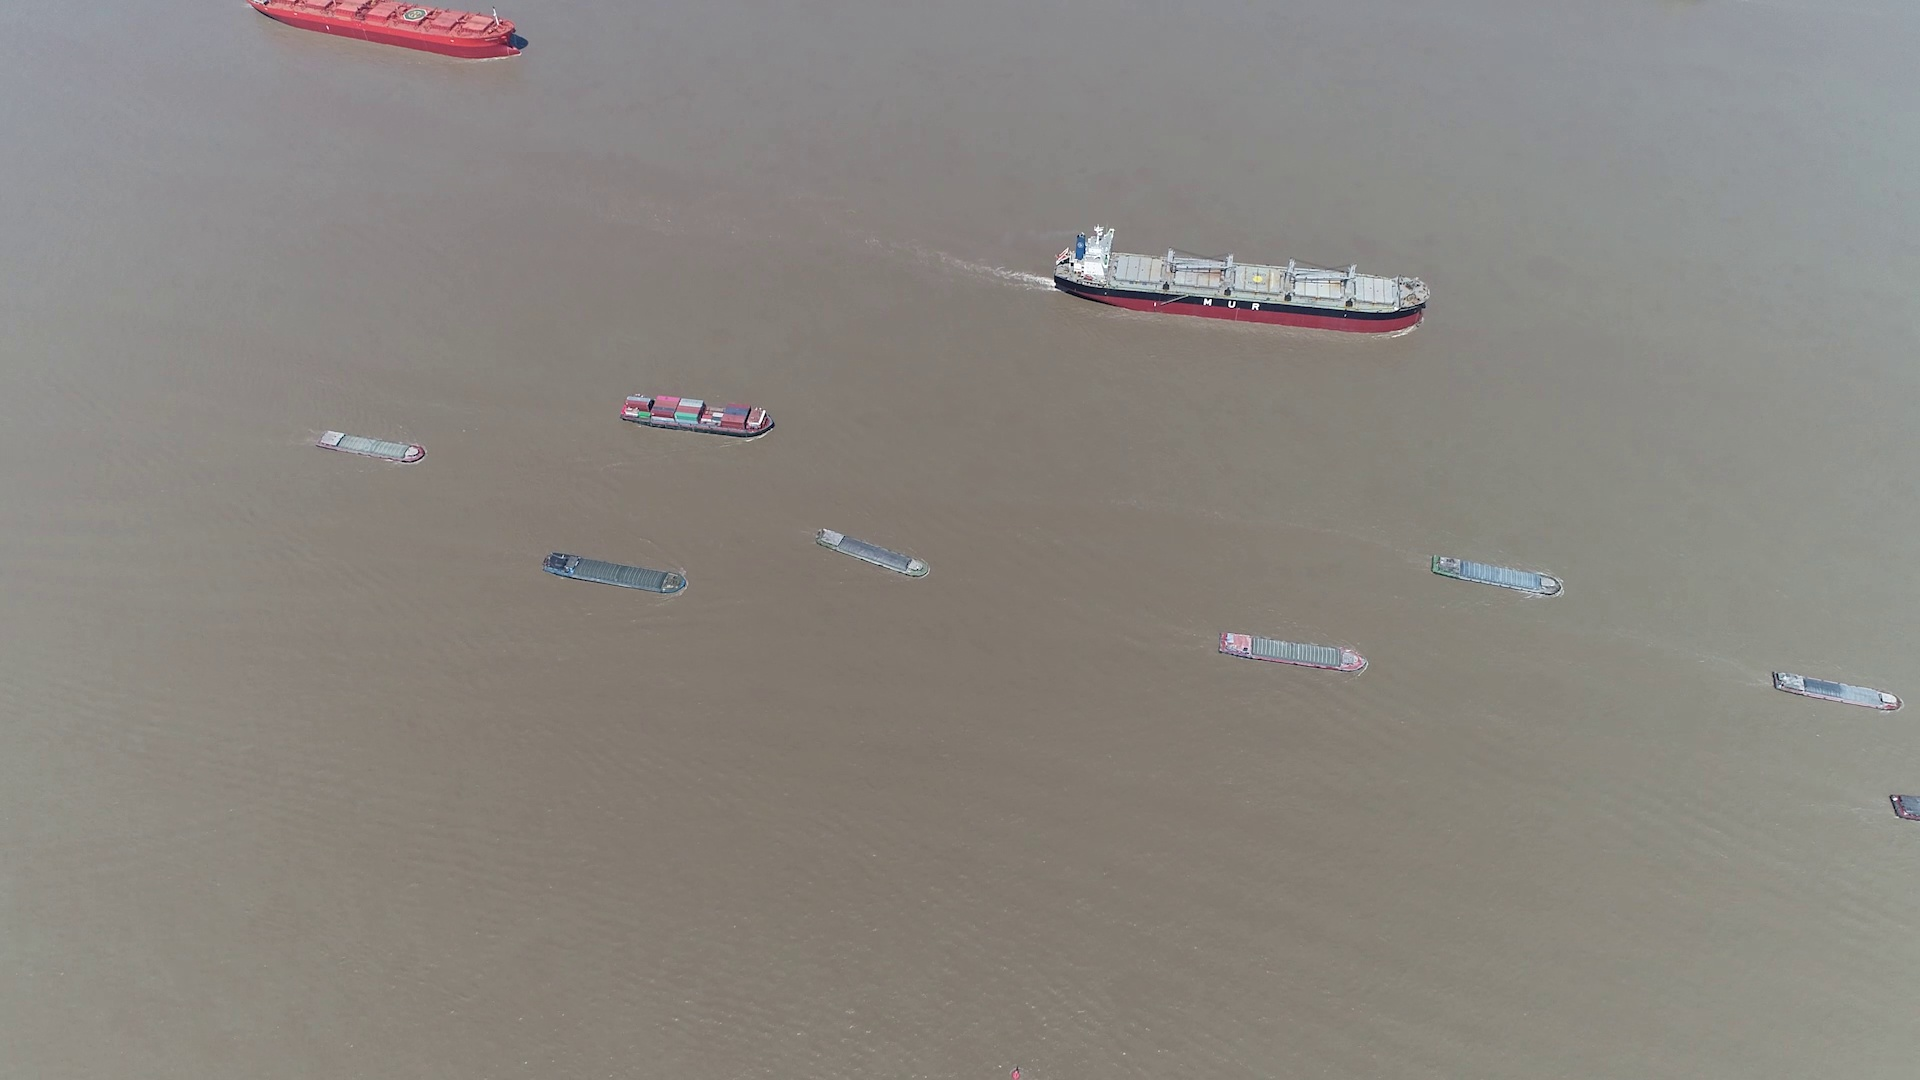ship: (1056, 231, 1432, 331), (248, 0, 526, 61), (620, 396, 774, 436), (1216, 632, 1365, 674), (545, 553, 688, 595), (816, 529, 932, 580), (1432, 554, 1564, 596), (1771, 673, 1900, 712), (315, 429, 426, 464), (1888, 793, 1917, 822)
